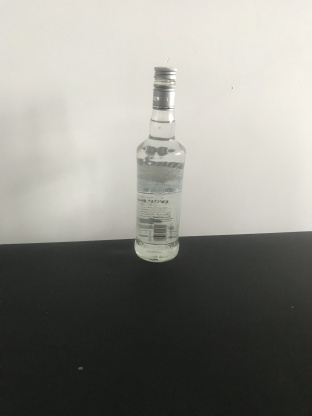nakretka: (151, 65, 177, 110)
